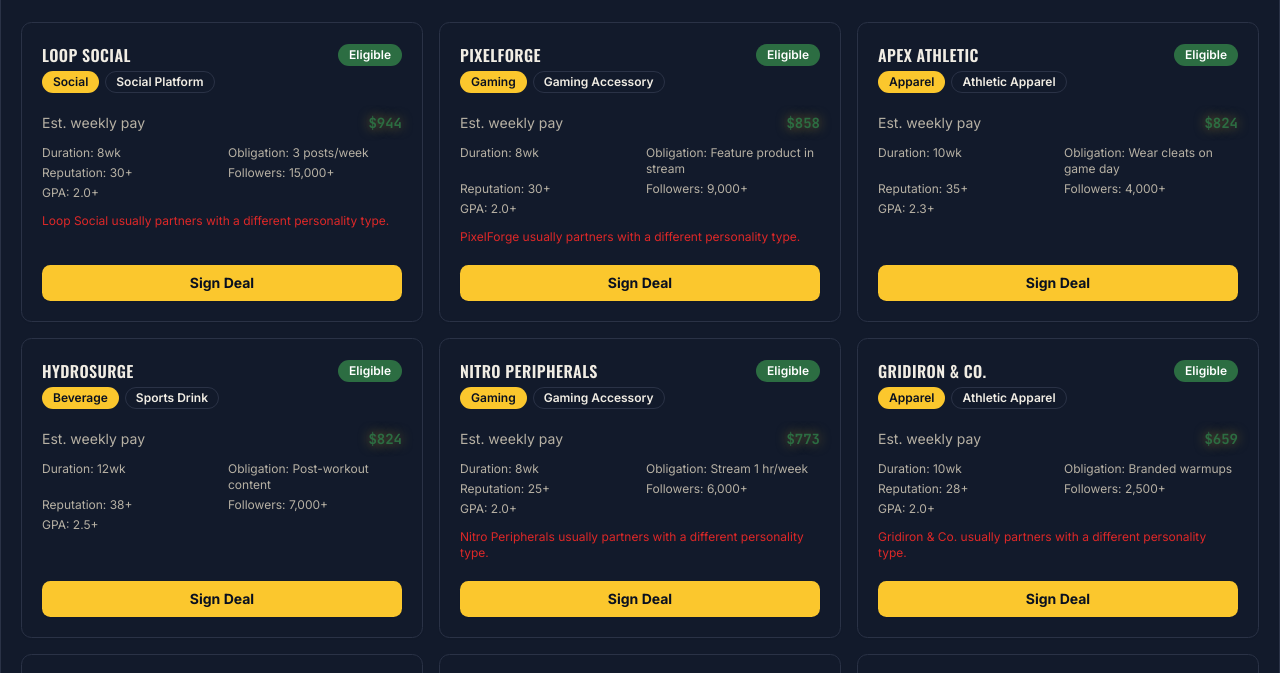
it: SponsorshipsPage › renders distinct eligible / not-eligible badges and signing an eligible offer moves it to Active Deals
Check: the 1st text "Eligible" is shown, box 338,44 -> 402,66
What coordinates should you click on to do the following:
click the button "Sign Deal" below "15,000"
I would click on:
 (222, 283)
Its box is 42,265 -> 402,301.
(page scrolled)
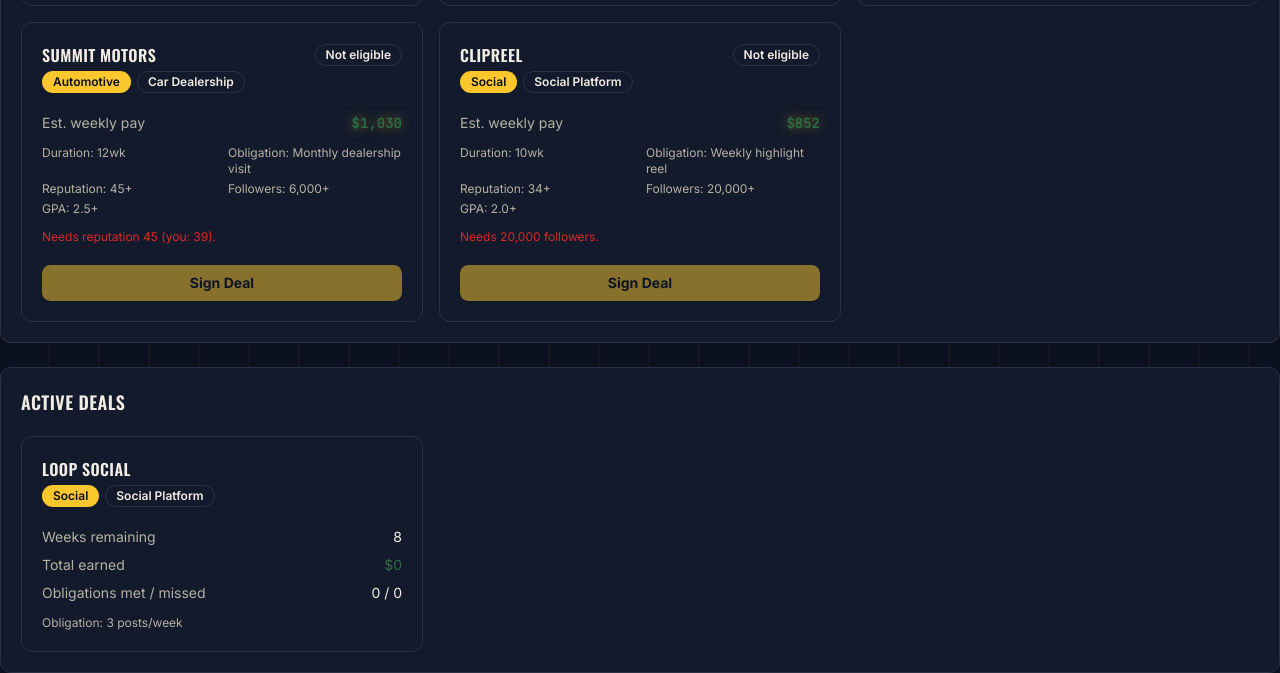
Check: the text "Weeks remaining" is shown, box 42,527 -> 156,547
